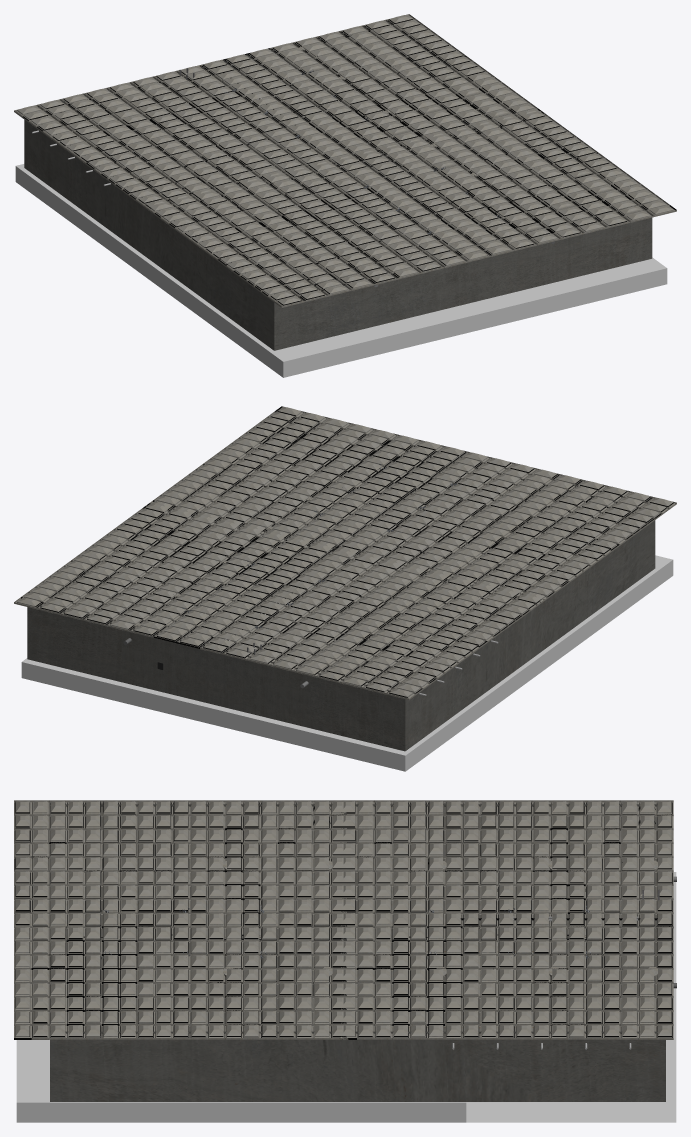
Rendered from underground_garage_pbr.gltf.
3 views of the same model, one above another, from view 1: azimuth 30°, elevation 25°; view 2: azimuth 150°, elevation 25°; view 3: azimuth 270°, elevation 25° (orthographic). The views are drawn at different scales.
Parts seen in each view (by area): view 1: Plane.003, Plane.010, Cube, Plane.016; view 2: Plane.010, Plane.003, Cube, Plane.016; view 3: Plane.003, Plane.010, Cube, Plane.016.
Part boxes in pixels (bbox=[...]): Plane.003: bbox=[146, 111, 676, 307]; Plane.010: bbox=[14, 14, 544, 210]; Cube: bbox=[24, 21, 652, 350]; Plane.016: bbox=[15, 164, 667, 377]; Plane.010: bbox=[14, 503, 544, 699]; Plane.003: bbox=[146, 406, 676, 602]; Cube: bbox=[27, 421, 655, 751]; Plane.016: bbox=[21, 555, 673, 771]; Plane.003: bbox=[14, 800, 348, 1039]; Plane.010: bbox=[339, 800, 673, 1039]; Cube: bbox=[50, 804, 665, 1101]; Plane.016: bbox=[16, 872, 676, 1122].
Size of the model in its own units: 49.04 by 9.33 by 57.83.
